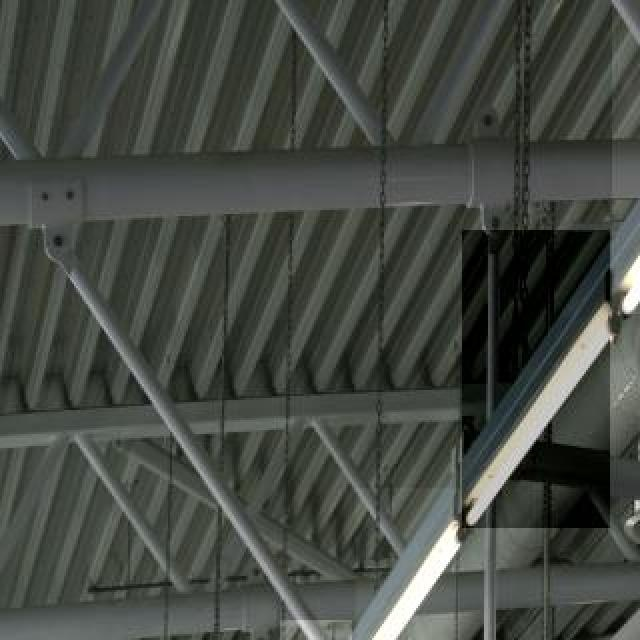fluorescent tube: (462, 257, 614, 539), (340, 492, 478, 640), (614, 0, 640, 326)
